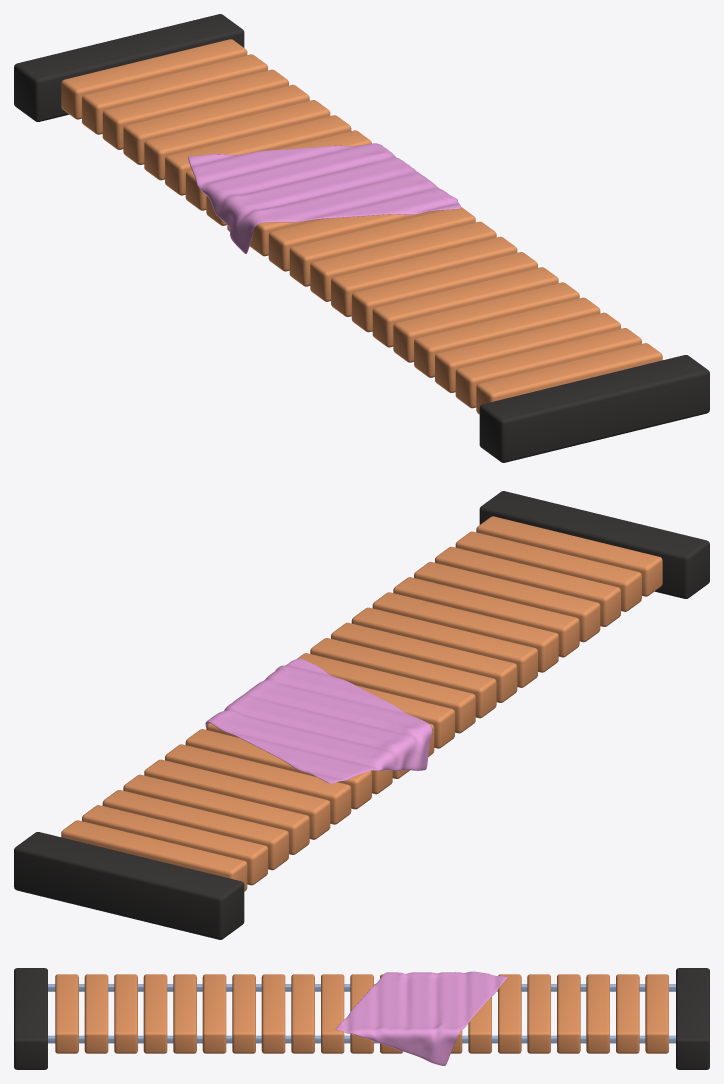
The model's file is Brücke3.fbx.
The picture shows the model from 3 angles, top to bottom: view 1: azimuth 30°, elevation 25°; view 2: azimuth 150°, elevation 25°; view 3: azimuth 270°, elevation 25°; orthographic projection. The views are drawn at different scales.
Visible parts, largest first — view 1: Brücke.001, Start.002, Decke.004; view 2: Brücke.001, Start.002, Decke.004; view 3: Brücke.001, Decke.004, Start.002, Halterung.002.
Boxes of the visible parts, <box> form: Brücke.001: <box>61,39,662,414</box>; Start.002: <box>14,14,709,462</box>; Decke.004: <box>188,143,460,253</box>; Brücke.001: <box>61,516,662,891</box>; Start.002: <box>14,491,709,939</box>; Decke.004: <box>205,658,432,783</box>; Brücke.001: <box>55,974,668,1053</box>; Decke.004: <box>335,971,507,1065</box>; Start.002: <box>14,968,709,1069</box>; Halterung.002: <box>48,984,675,1043</box>.
Bounding box in the file's own units: 568 × 126 × 2300.
